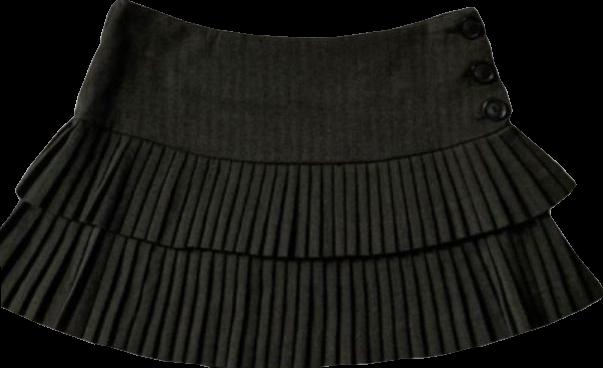Hemline: (15, 183, 576, 260), (0, 296, 602, 367)
Waistline: (73, 111, 512, 164), (116, 0, 474, 40)
